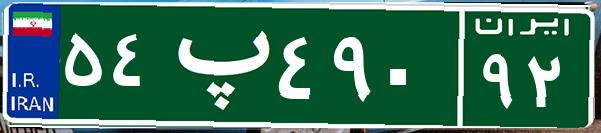0: (385, 28, 445, 110)
2: (525, 38, 570, 115)
4: (273, 28, 330, 110), (110, 28, 158, 105)
5: (57, 26, 110, 107)
9: (330, 28, 385, 110), (475, 38, 525, 113)
پ: (158, 15, 273, 115)
